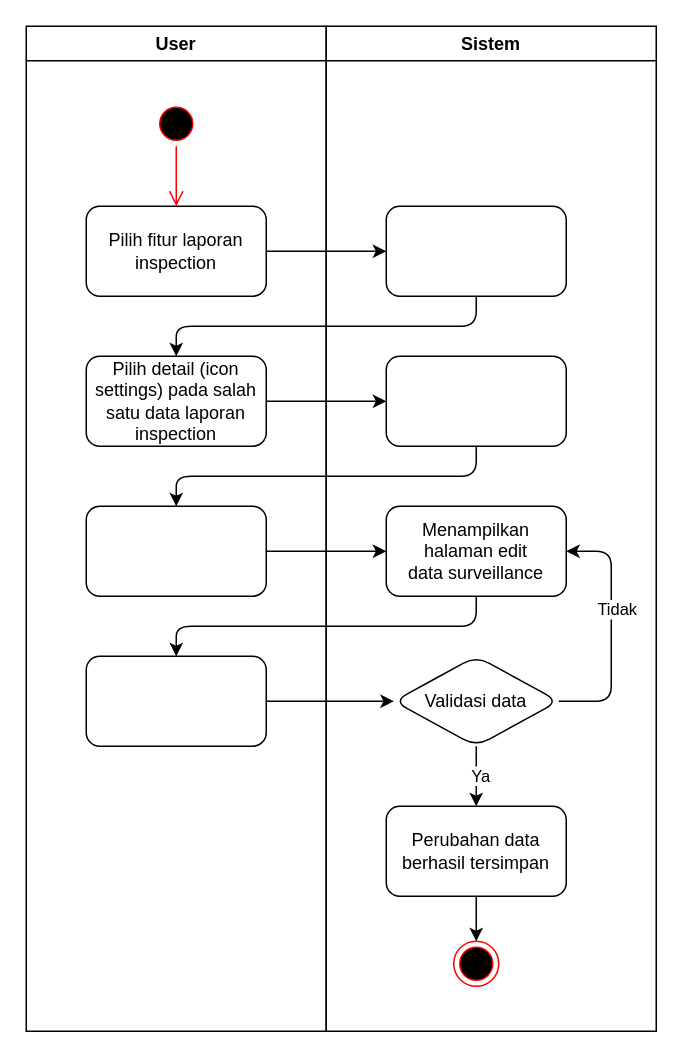
Image size: 683x1058. Some labels were removed from this diagram. The box of each missing label's shape, as (x1, y1, x2, y2) in pixels:
Edit data surveillance: (85, 655, 266, 746)
Menampilkan halaman laporan inspection: (385, 205, 566, 296)
Menampilkan halaman surveillance: (385, 355, 566, 446)
Pilih edit (icon pen) pada salah satu data surveillance: (85, 505, 266, 596)
